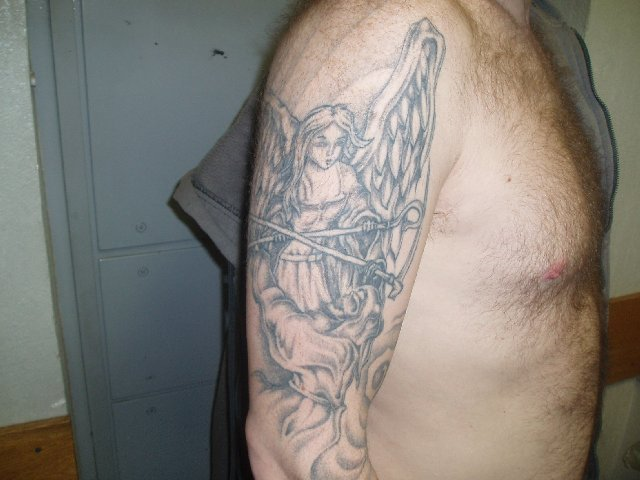tatu1_angel: (263, 79, 412, 412)
